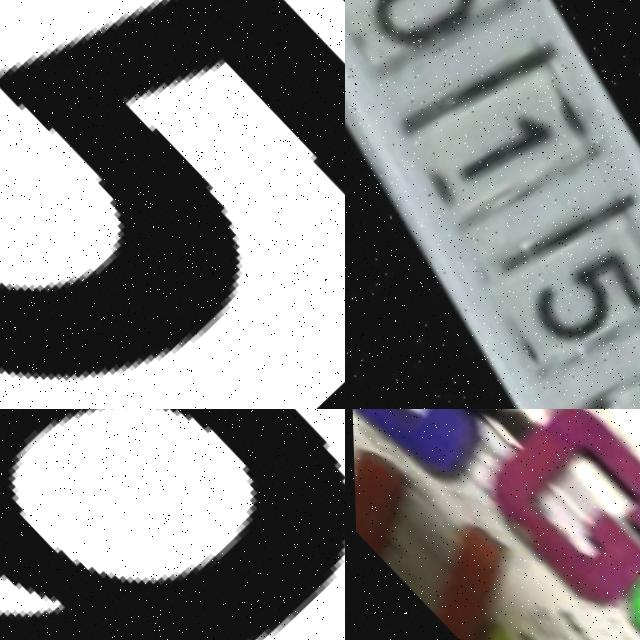0: (345, 0, 504, 79)
1: (426, 67, 581, 218)
5: (0, 0, 345, 409), (499, 217, 640, 381)
9: (0, 409, 345, 640)
B: (346, 409, 529, 484)
G: (466, 409, 640, 623)
